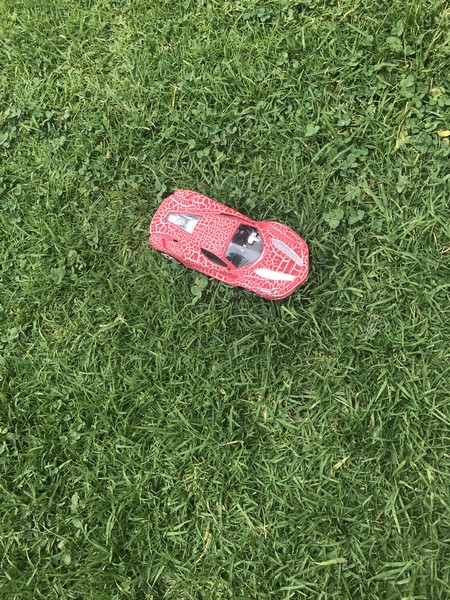RC: (146, 188, 312, 305)
